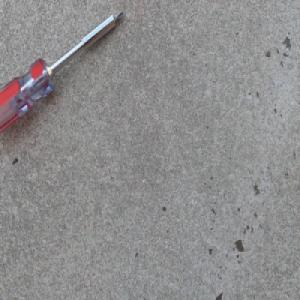Screwdriver: (0, 17, 121, 141)
